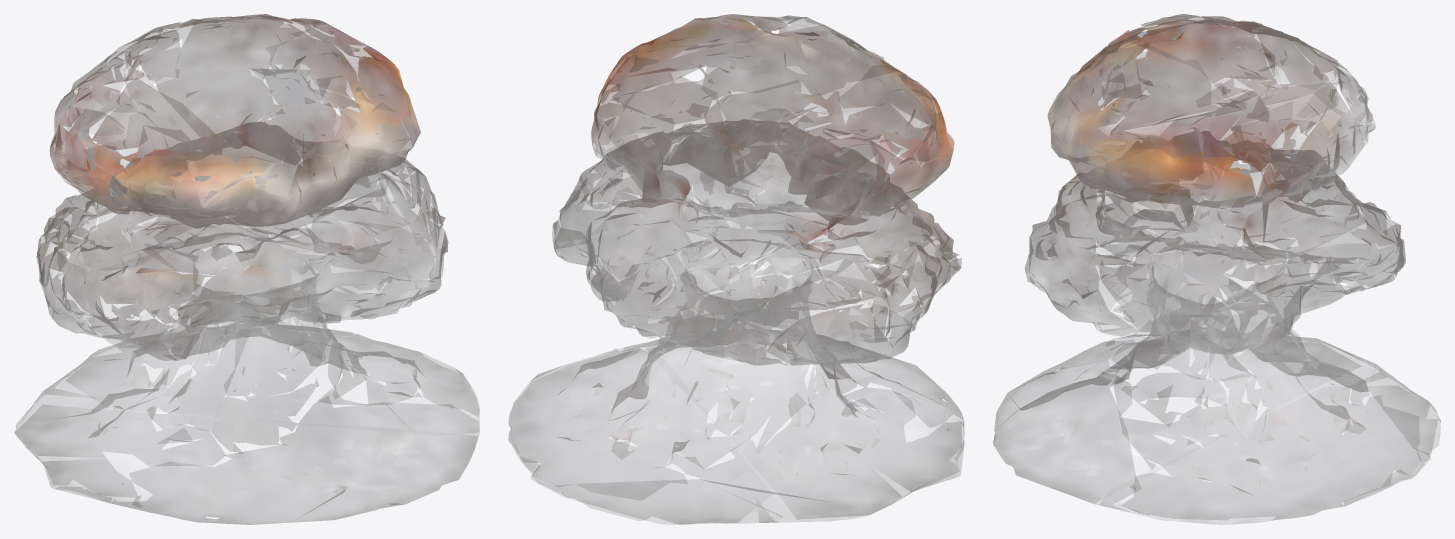
3 renders of one model, left to right at view 1: azimuth 30°, elevation 25°; view 2: azimuth 150°, elevation 25°; view 3: azimuth 270°, elevation 25°, orthographic. The views are drawn at different scales.
Parts seen in each view (by area): view 1: Object_4; view 2: Object_4; view 3: Object_4.
Part boxes in pixels (box(x1,y1,x2,y2)): Object_4: box(14, 14, 479, 524); Object_4: box(508, 14, 964, 524); Object_4: box(993, 14, 1440, 524).
Size of the model in its own units: 2 by 1.8 by 1.92.
1 material, 1 textured.
